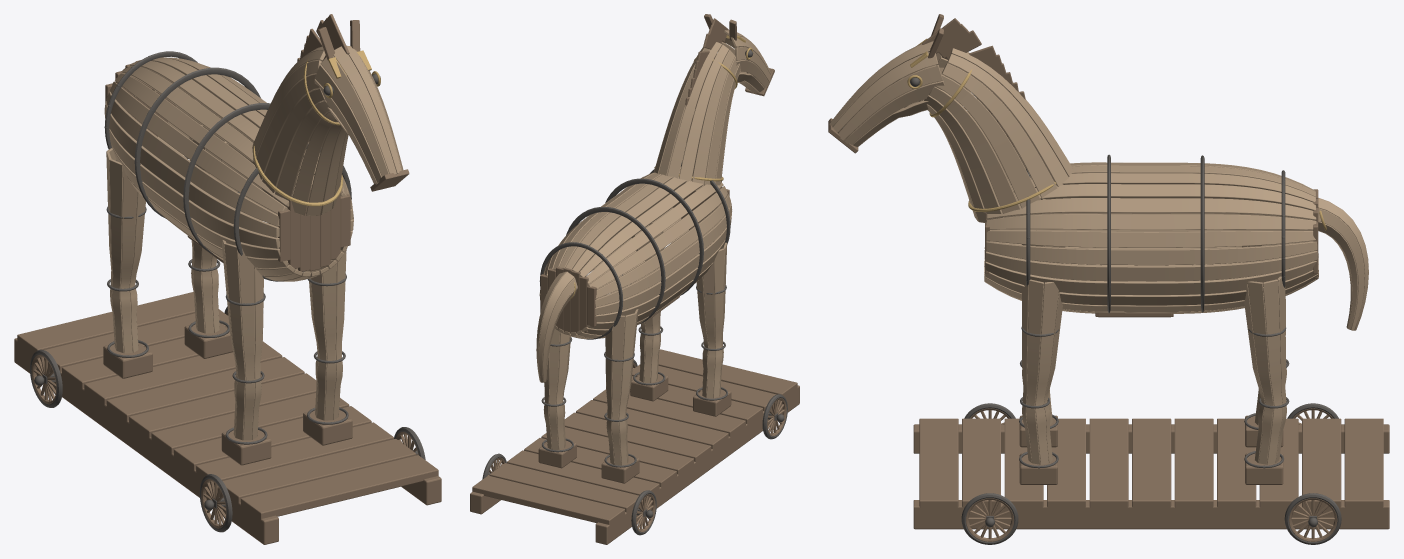
The model's file is horse.glb.
3 views of the same model, side by side, from view 1: azimuth 30°, elevation 25°; view 2: azimuth 150°, elevation 25°; view 3: azimuth 270°, elevation 25° (orthographic). The views are drawn at different scales.
Parts seen in each view (by area): view 1: wood, darkwood, iron, bronze; view 2: wood, darkwood, iron; view 3: wood, darkwood, iron, bronze.
Part boxes in pixels (x1,y1,x2,y2): wood: [104, 45, 403, 440]; darkwood: [14, 14, 441, 544]; iron: [30, 51, 425, 532]; bronze: [253, 50, 380, 206]; wood: [536, 30, 770, 465]; darkwood: [470, 14, 799, 544]; iron: [482, 50, 787, 535]; wood: [829, 41, 1368, 464]; darkwood: [828, 14, 1389, 541]; iron: [843, 77, 1341, 544]; bronze: [907, 38, 1326, 230].
Bounding box in the file's own units: 5.58 × 12.5 × 13.2.
